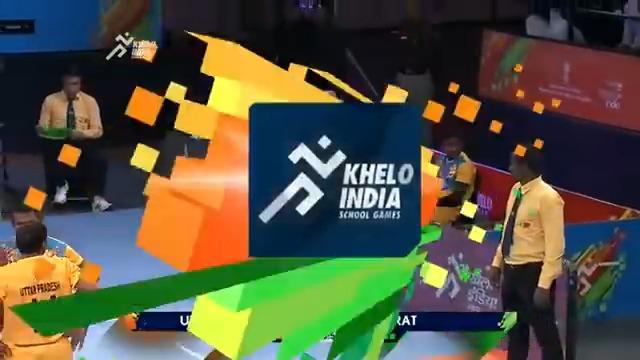Player: (0, 220, 99, 359), (430, 135, 477, 226)
referee: (488, 142, 567, 359), (36, 65, 113, 212)
